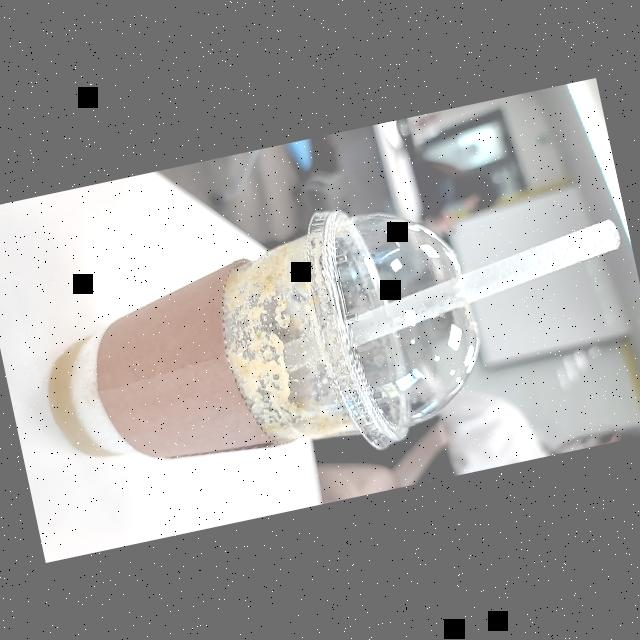plastic_cup: (20, 181, 501, 513)
plastic_cup_lid: (279, 180, 505, 464)
straw: (272, 217, 632, 376)
